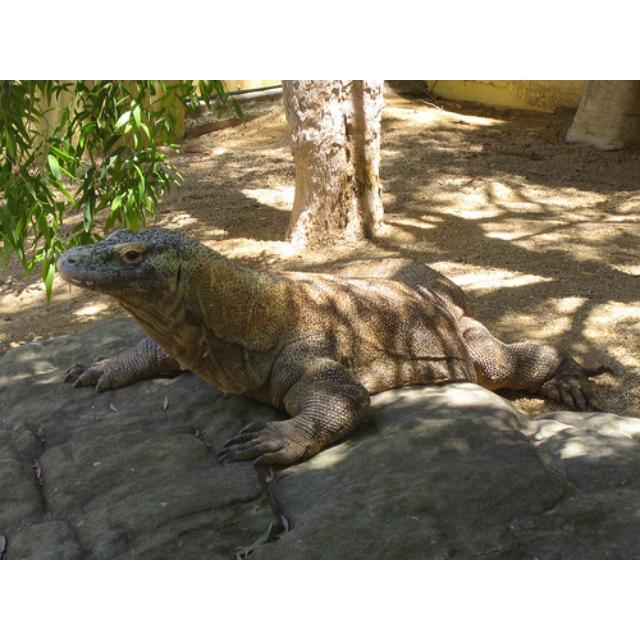KomodoDragon: (53, 224, 616, 467)
